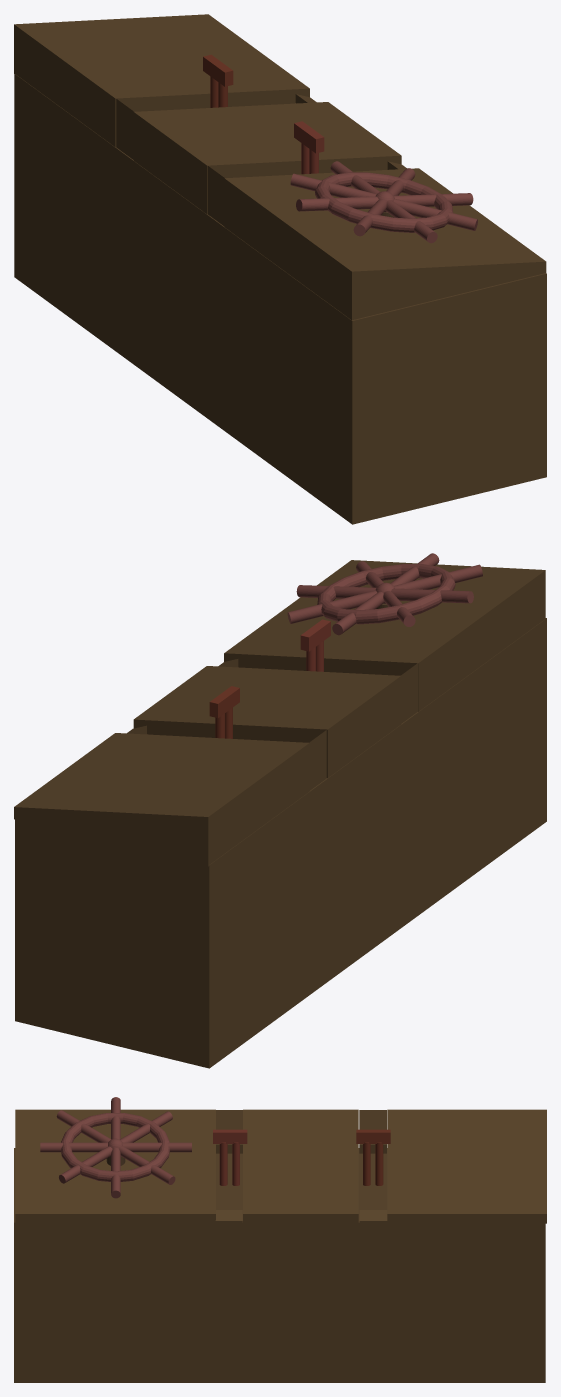
The model's file is basic_Controls.glb.
The picture shows the model from 3 angles, top to bottom: view 1: azimuth 30°, elevation 25°; view 2: azimuth 150°, elevation 25°; view 3: azimuth 270°, elevation 25°; orthographic projection. The views are drawn at different scales.
Visible parts, largest first — view 1: Cube, Cube.001, Cube.003, Cube.002, Cylinder.011, Cylinder.003, Cylinder.002, Cube.005, Cube.004; view 2: Cube, Cube.003, Cube.001, Cube.002, Cylinder.011, Cylinder.003, Cylinder.002, Cube.005, Cube.004; view 3: Cube, Cube.003, Cube.001, Cube.002, Cylinder.011, Cylinder.003, Cylinder.002, Cube.005, Cube.004, Cube.007, Cube.006.
Part boxes in pixels (x1=…): Cube: x1=14, y1=73, x2=546, y2=524; Cube.001: x1=224, y1=168, x2=546, y2=320; Cube.003: x1=14, y1=14, x2=309, y2=147; Cube.002: x1=133, y1=102, x2=401, y2=214; Cylinder.011: x1=290, y1=161, x2=477, y2=243; Cylinder.003: x1=203, y1=54, x2=233, y2=107; Cylinder.002: x1=294, y1=121, x2=324, y2=174; Cube.005: x1=116, y1=99, x2=133, y2=159; Cube.004: x1=207, y1=166, x2=224, y2=225; Cube: x1=15, y1=618, x2=546, y2=1068; Cube.003: x1=14, y1=733, x2=309, y2=866; Cube.001: x1=224, y1=560, x2=545, y2=711; Cube.002: x1=133, y1=666, x2=401, y2=778; Cylinder.011: x1=287, y1=553, x2=482, y2=635; Cylinder.003: x1=209, y1=686, x2=239, y2=738; Cylinder.002: x1=300, y1=619, x2=330, y2=671; Cube.005: x1=309, y1=730, x2=326, y2=790; Cube.004: x1=401, y1=663, x2=417, y2=723; Cube: x1=14, y1=1148, x2=545, y2=1382; Cube.003: x1=387, y1=1109, x2=546, y2=1223; Cube.001: x1=15, y1=1109, x2=215, y2=1223; Cube.002: x1=243, y1=1109, x2=358, y2=1223; Cylinder.011: x1=40, y1=1097, x2=191, y2=1198; Cylinder.003: x1=356, y1=1129, x2=390, y2=1185; Cylinder.002: x1=213, y1=1129, x2=247, y2=1185; Cube.005: x1=359, y1=1110, x2=386, y2=1153; Cube.004: x1=216, y1=1110, x2=242, y2=1153; Cube.007: x1=359, y1=1210, x2=387, y2=1222; Cube.006: x1=215, y1=1210, x2=242, y2=1222.
Size of the model in its own units: 1.57 by 2.11 by 4.71.
